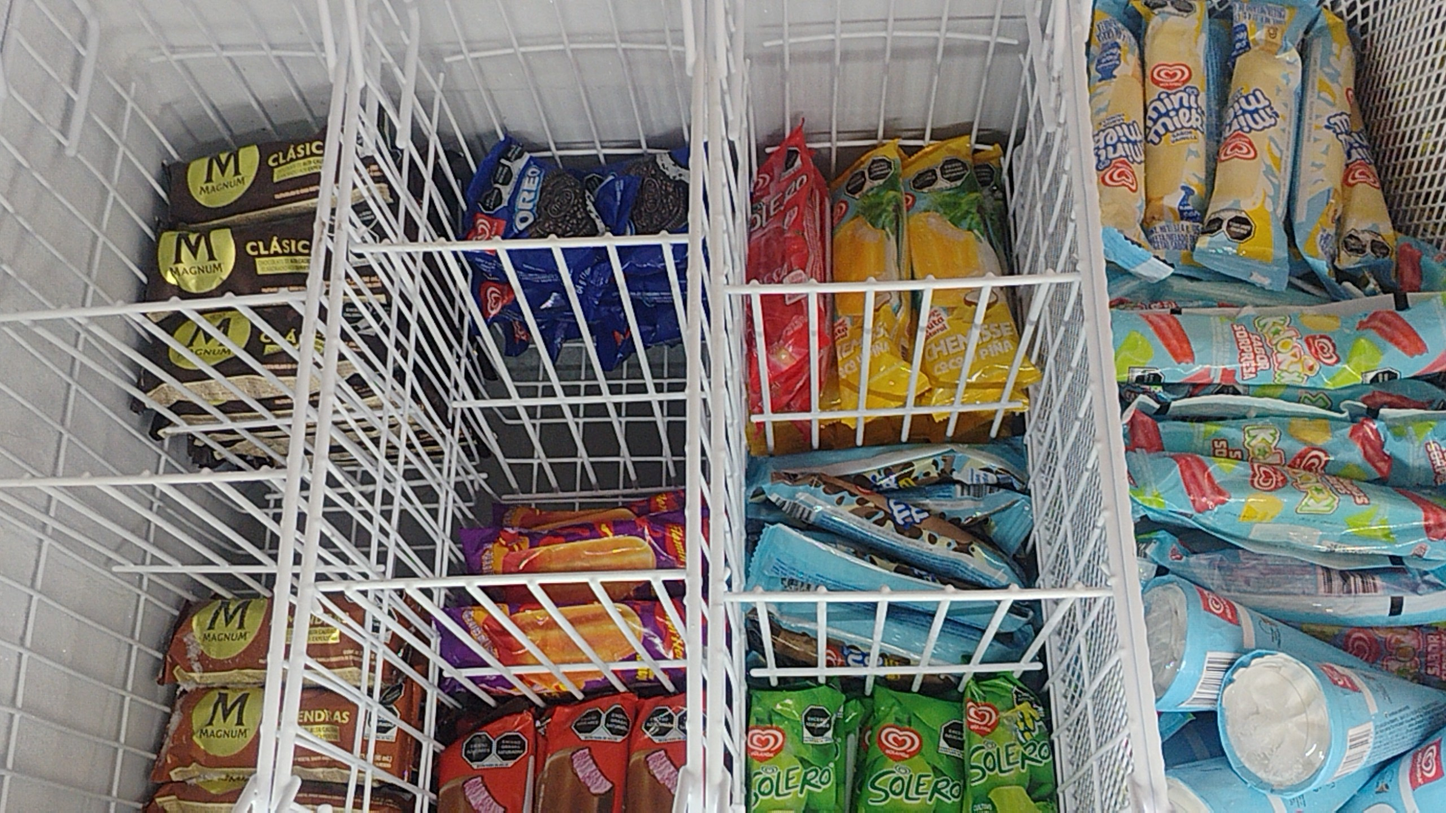rejilla: (1065, 2, 1169, 812), (1058, 2, 1158, 813), (254, 290, 320, 812), (307, 189, 352, 521), (271, 520, 321, 812), (307, 62, 348, 297), (707, 278, 724, 810), (315, 569, 690, 591), (688, 329, 703, 812), (350, 234, 690, 252), (724, 587, 1114, 602), (0, 470, 296, 487), (707, 53, 723, 283), (689, 52, 702, 327), (0, 302, 177, 322), (726, 279, 934, 293), (338, 63, 360, 193), (170, 291, 306, 309), (935, 272, 1083, 288)
